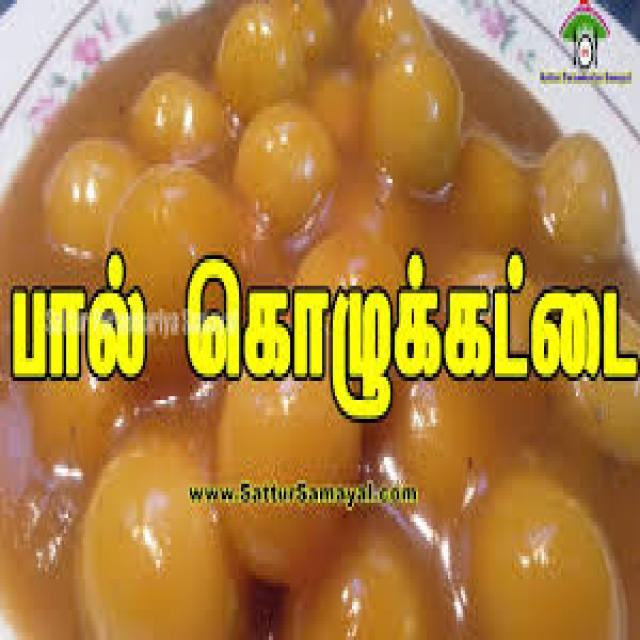paal kolukattai: (0, 0, 580, 640)
